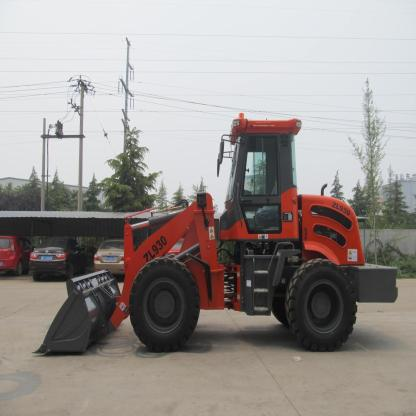bull_dozer/loader/grader: (29, 97, 401, 391)
